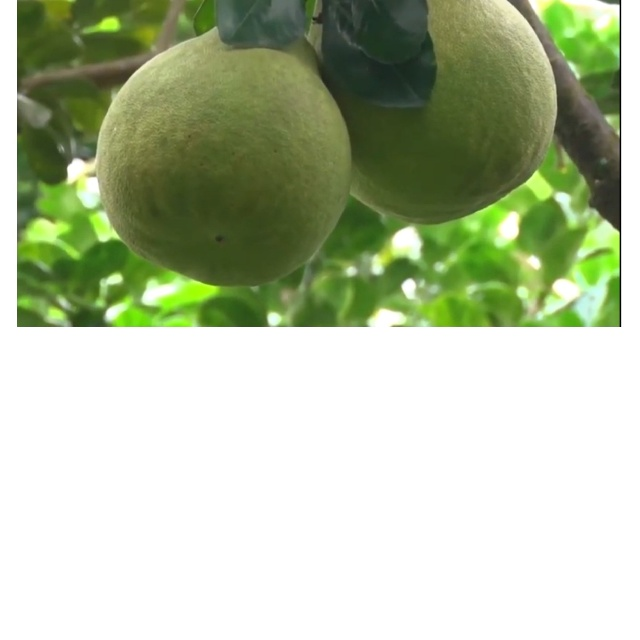buoi: (92, 20, 353, 289)
